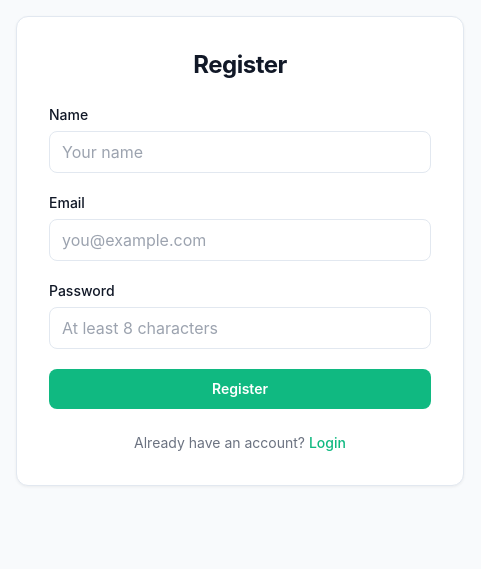
RegisterPage › shows server error on registration failure
The width and height of the screenshot is (481, 569).
Type "Test User" into the field labelled "Name" at (240, 152), box x1=49 y1=131 x2=431 y2=173
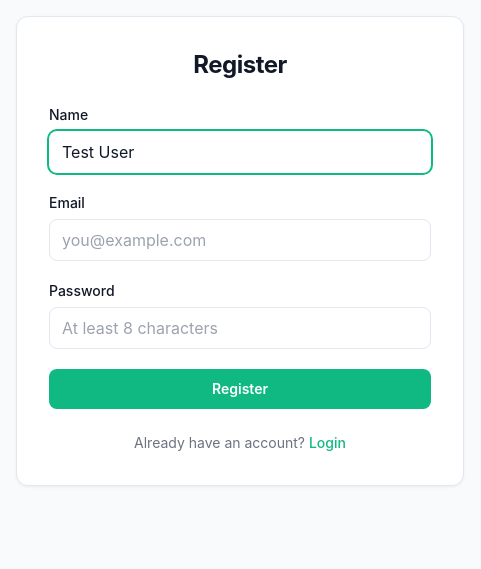
Type "test@example.com" into the field labelled "Email" at (240, 240), box x1=49 y1=219 x2=431 y2=261
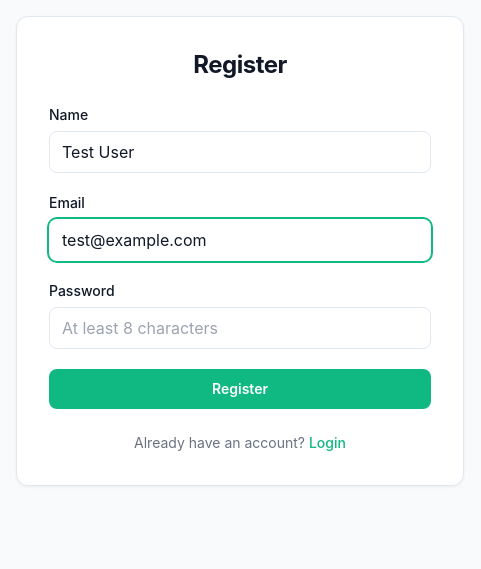
Type "password123" into the password field labelled "Password" at (240, 328), box x1=49 y1=307 x2=431 y2=349
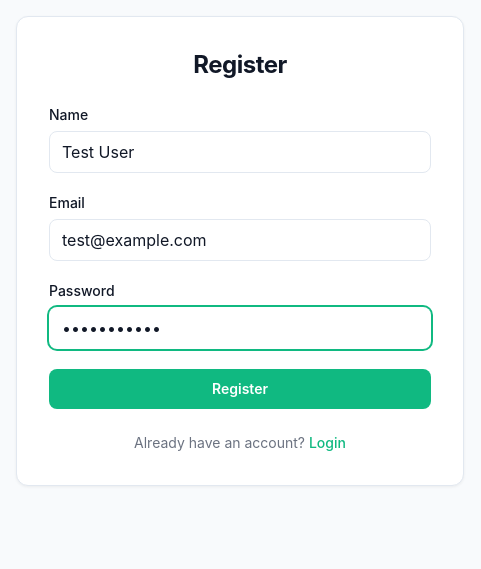
Click the button "Register" at (240, 389), box x1=49 y1=369 x2=431 y2=409
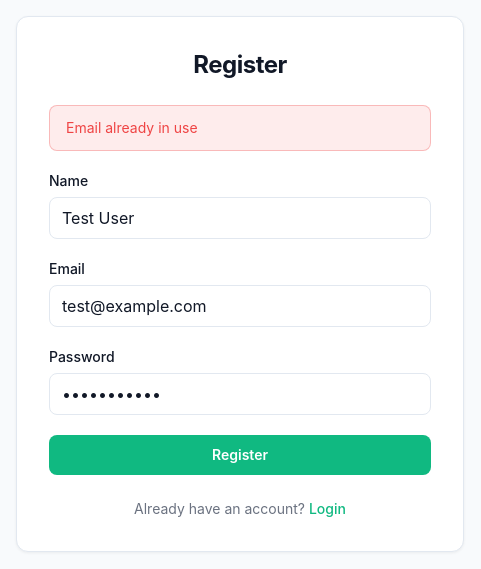
Now the text "Email already in use" is shown, box x1=49 y1=105 x2=431 y2=151
